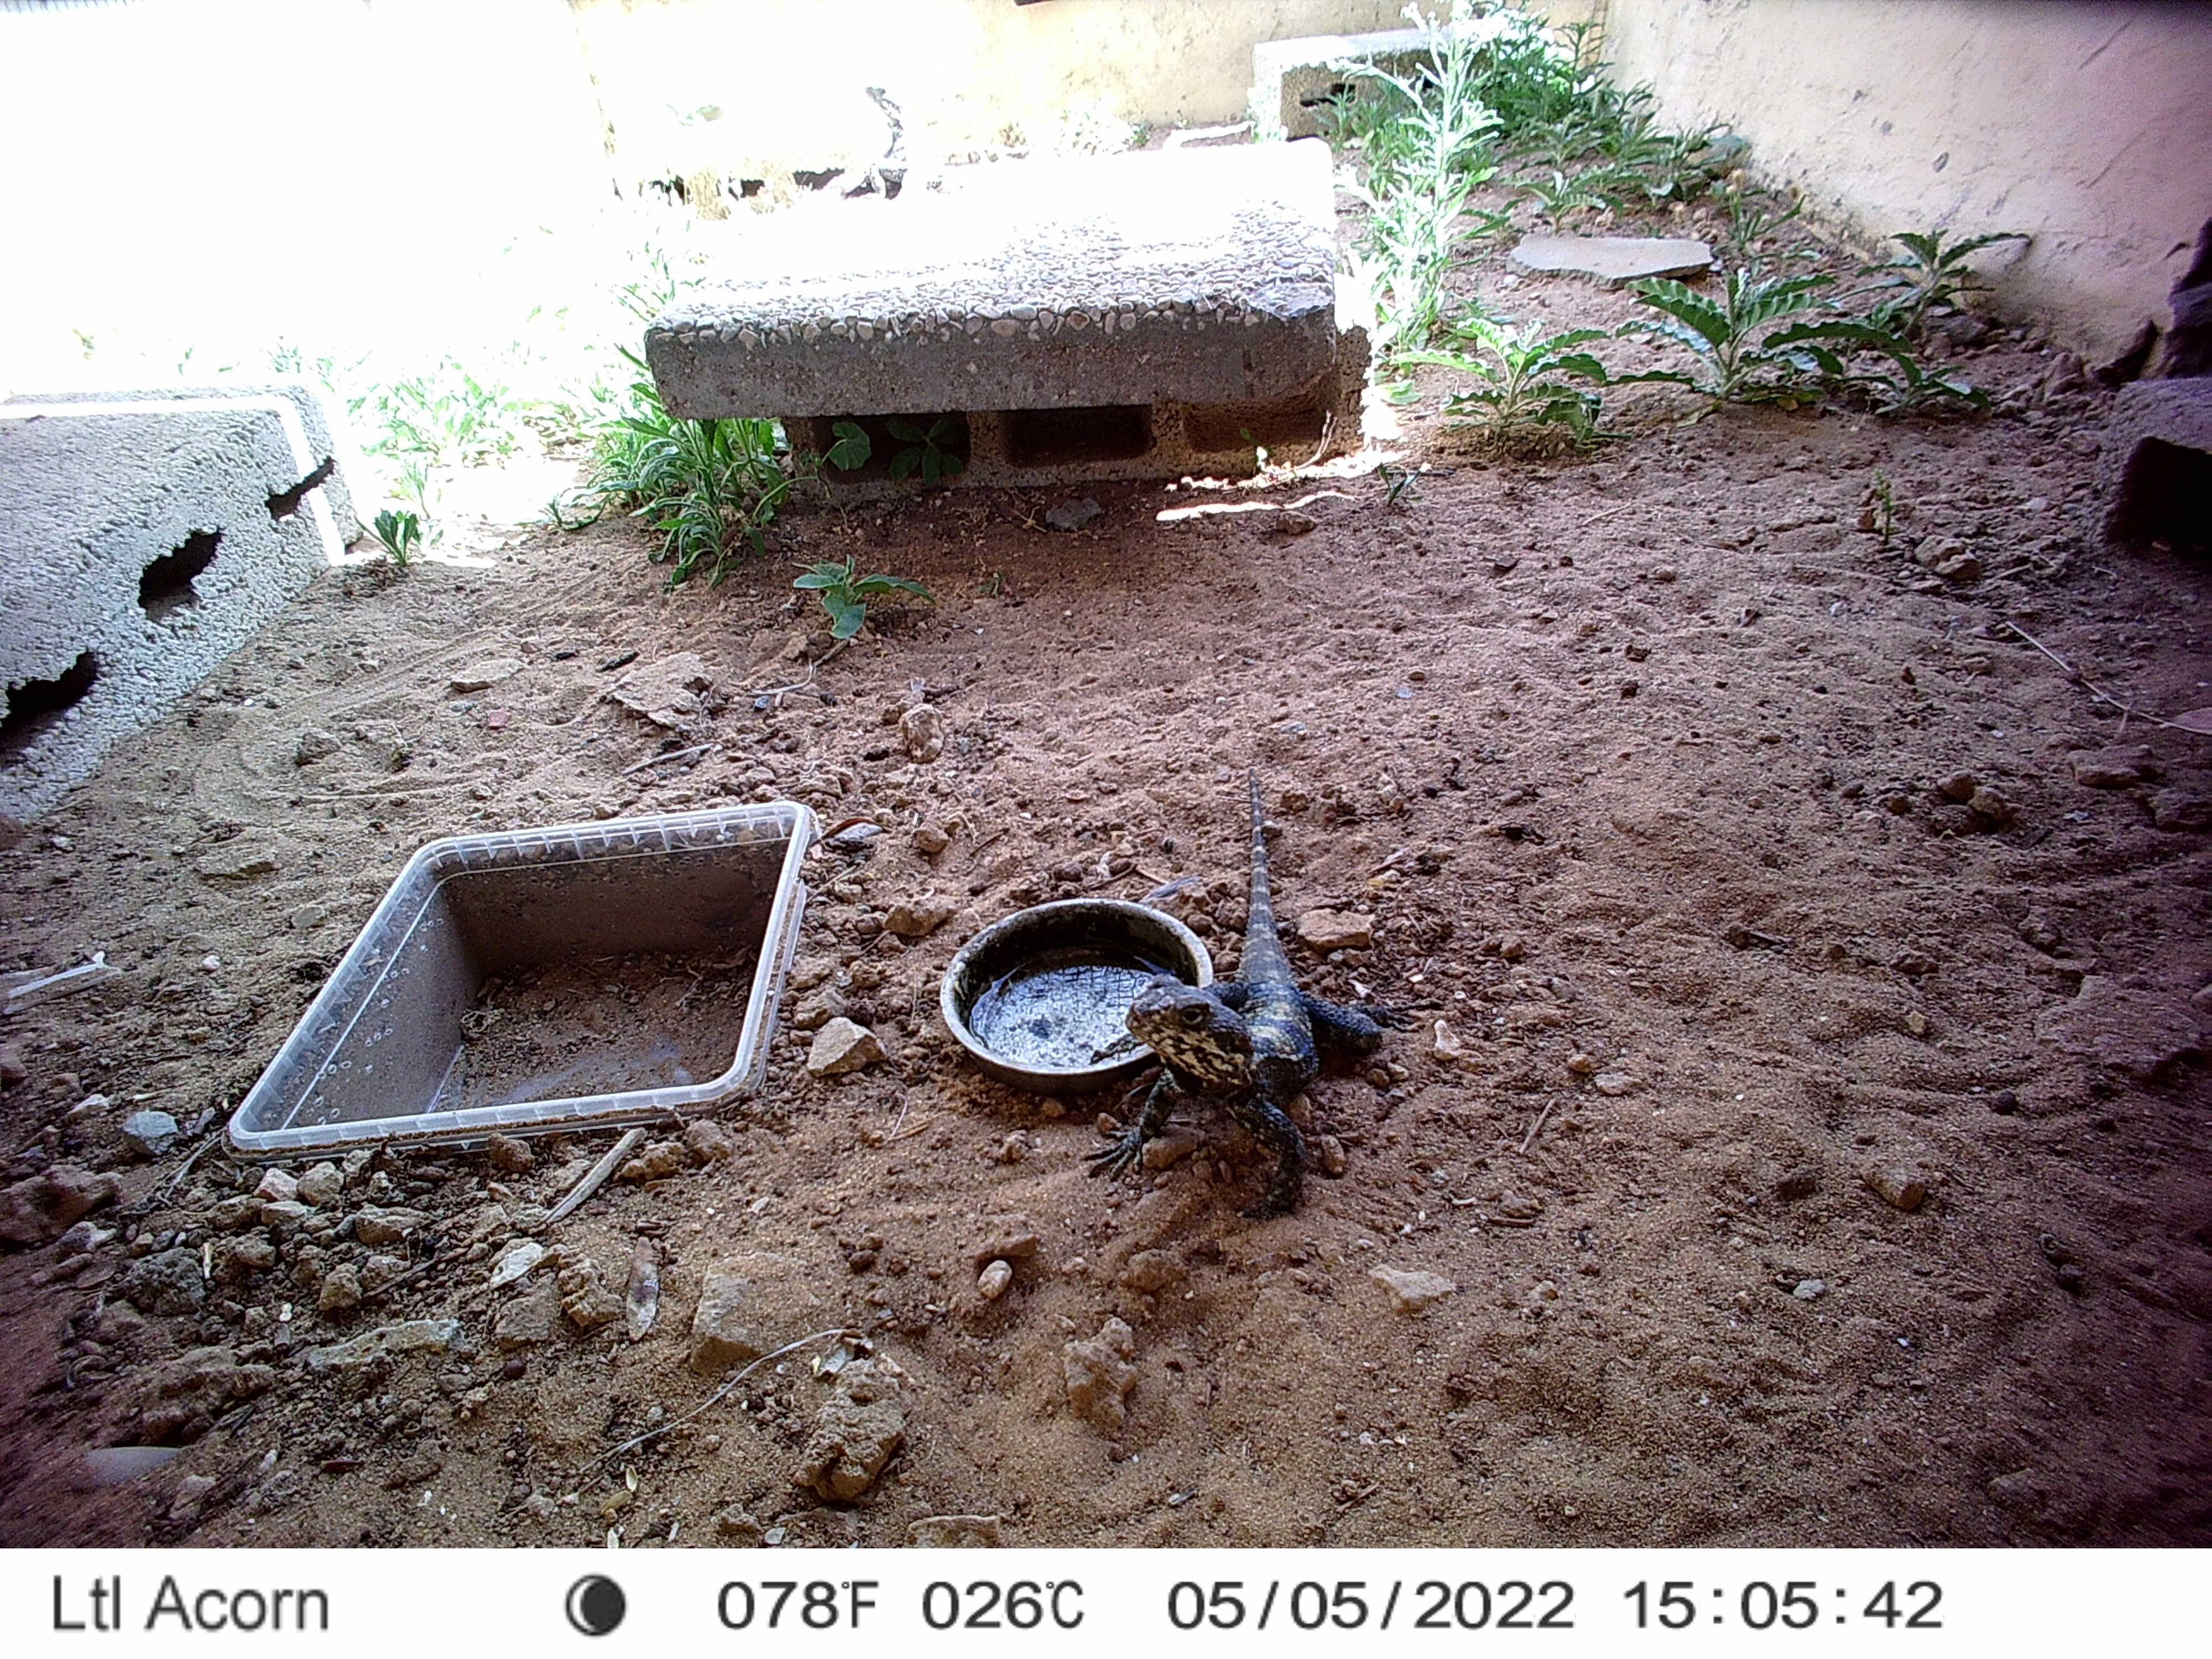lizard: (1085, 767, 1386, 1204), (867, 80, 951, 206)
